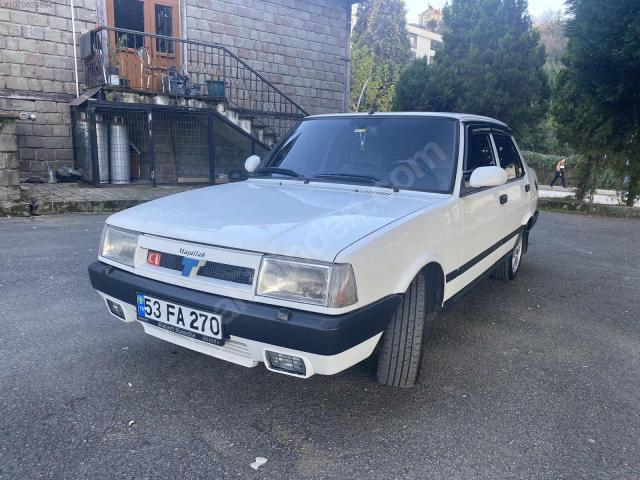plaka: (138, 294, 224, 344)
